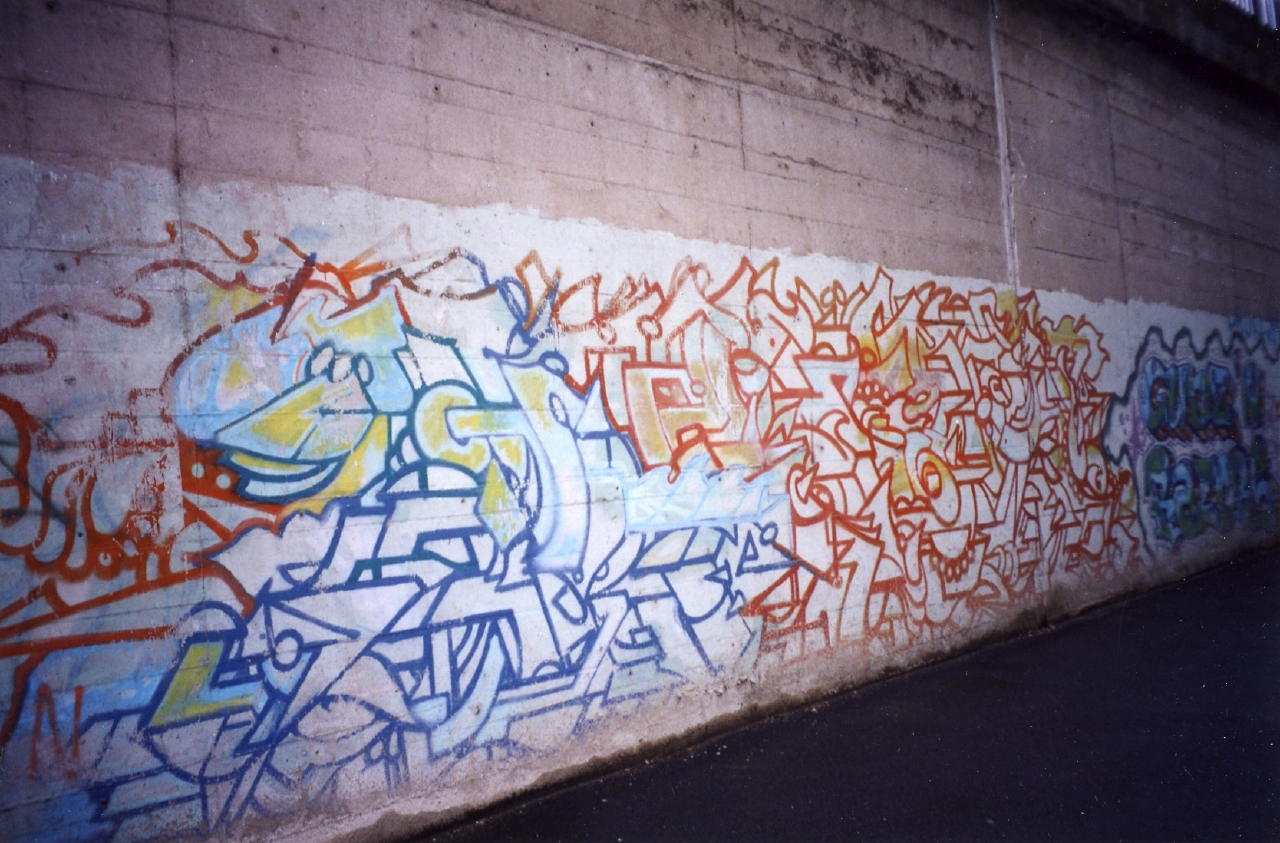graphite: (118, 276, 776, 768), (775, 294, 1140, 625), (1, 319, 112, 843), (1129, 332, 1280, 544)
